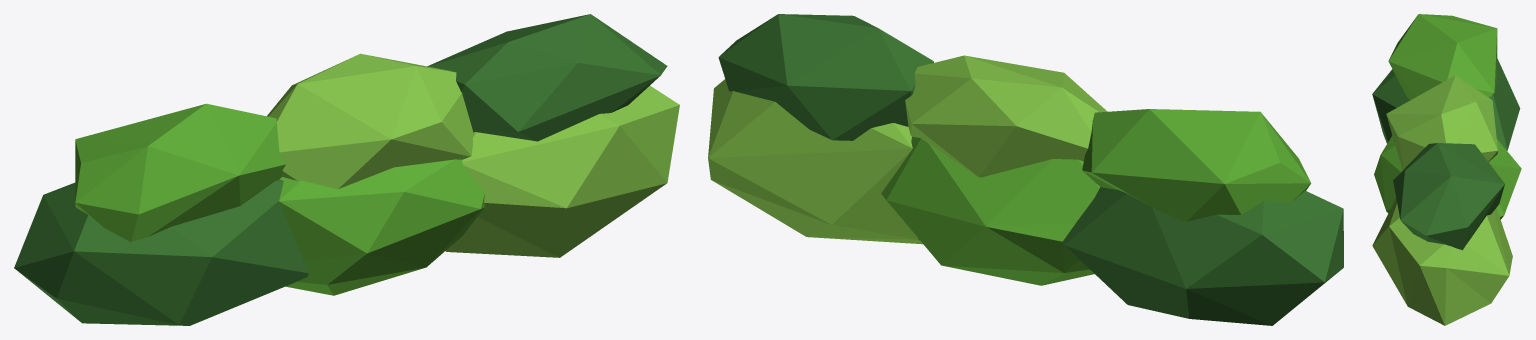
File: hedge_straight_2_lod1.glb
The picture shows the model from 3 angles, left to right: view 1: azimuth 30°, elevation 25°; view 2: azimuth 150°, elevation 25°; view 3: azimuth 270°, elevation 25°; orthographic projection. The views are drawn at different scales.
Parts seen in each view (by area): view 1: hedge_straight_2_lod1; view 2: hedge_straight_2_lod1; view 3: hedge_straight_2_lod1.
Boxes of the visible parts, x1=… form: hedge_straight_2_lod1: x1=14, y1=14, x2=679, y2=325; hedge_straight_2_lod1: x1=708, y1=14, x2=1343, y2=325; hedge_straight_2_lod1: x1=1372, y1=14, x2=1521, y2=325.
Bounding box in the file's own units: 4.7 × 1.52 × 1.32.
